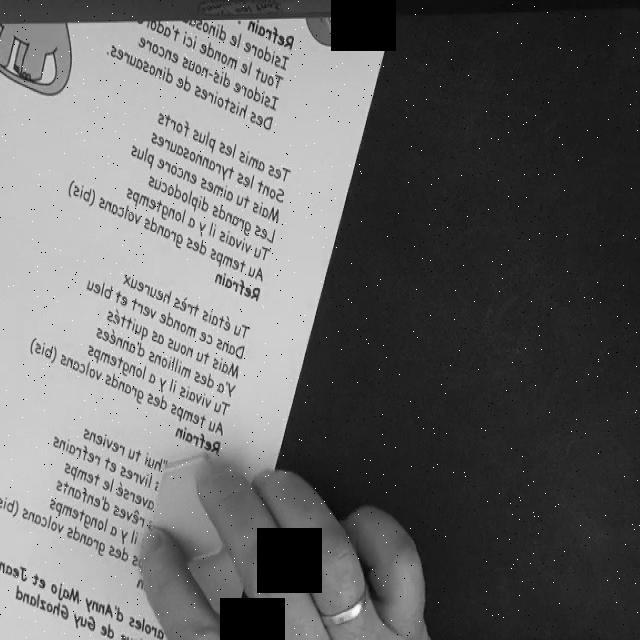hexagon: (144, 451, 235, 568)
